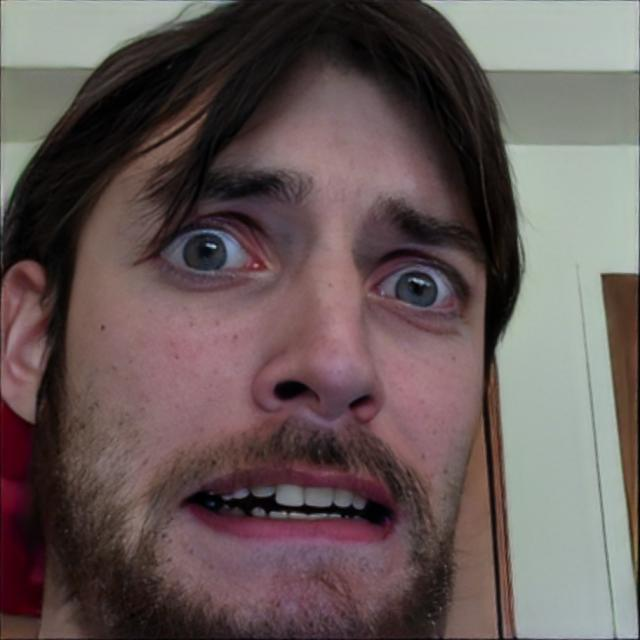fear: (58, 59, 487, 640)
